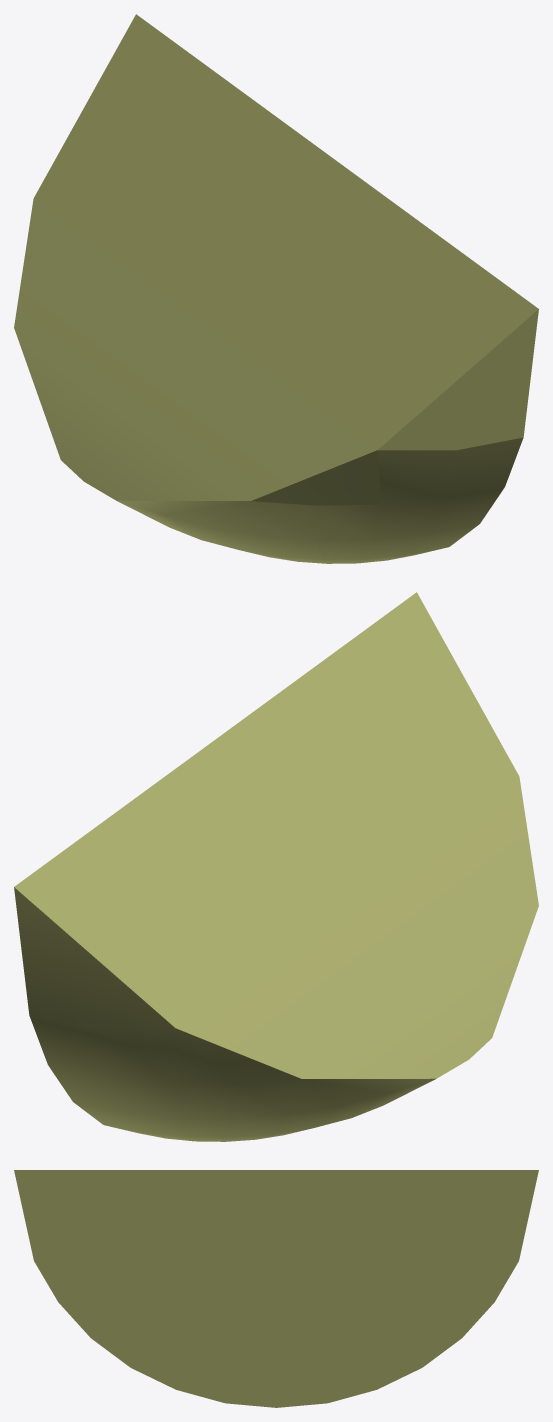
Rendered from fruit_piece.fbx.
3 renders of one model, top to bottom at view 1: azimuth 30°, elevation 25°; view 2: azimuth 150°, elevation 25°; view 3: azimuth 270°, elevation 25°, orthographic. The views are drawn at different scales.
Visible parts, largest first — view 1: fruit_piece; view 2: fruit_piece; view 3: fruit_piece.
Part boxes in pixels (x1=…): fruit_piece: x1=14, y1=14, x2=538, y2=563; fruit_piece: x1=14, y1=592, x2=538, y2=1141; fruit_piece: x1=14, y1=1170, x2=538, y2=1407.
Bounding box in the file's own units: 72.71 × 100 × 200.
